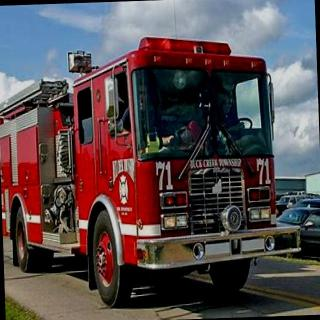Fire_truck: (0, 29, 302, 310)
